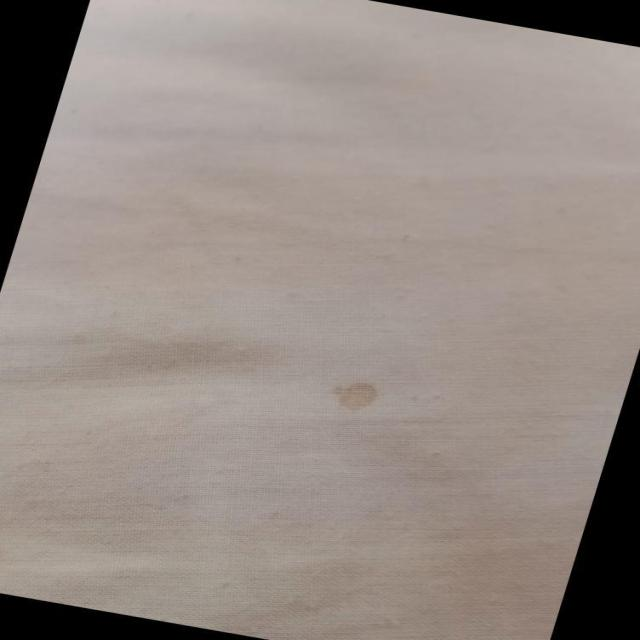stain: (315, 365, 395, 418)
